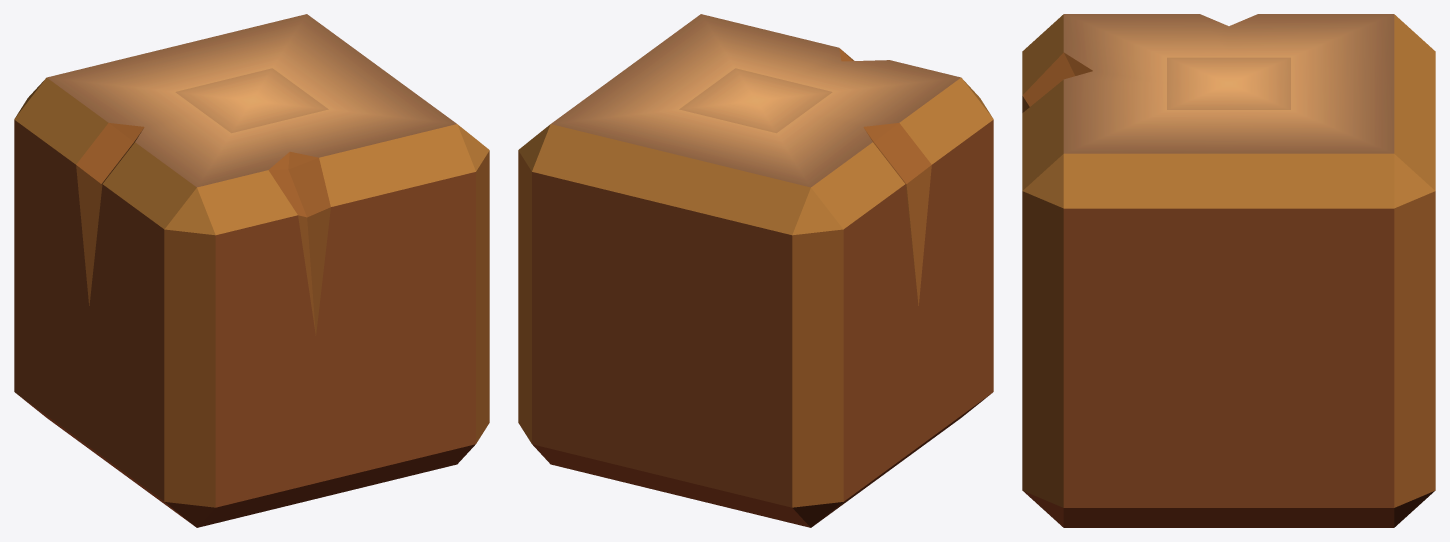
Rendered from by_wood_cube.fbx.
The picture shows the model from 3 angles, left to right: view 1: azimuth 30°, elevation 25°; view 2: azimuth 150°, elevation 25°; view 3: azimuth 270°, elevation 25°; orthographic projection. The views are drawn at different scales.
Visible parts, largest first — view 1: by_wood_cube; view 2: by_wood_cube; view 3: by_wood_cube.
Boxes of the visible parts, bbox=[...] form: by_wood_cube: bbox=[14, 14, 489, 527]; by_wood_cube: bbox=[518, 14, 993, 527]; by_wood_cube: bbox=[1022, 14, 1435, 527].
Size of the model in its own units: 100 by 100 by 100.
